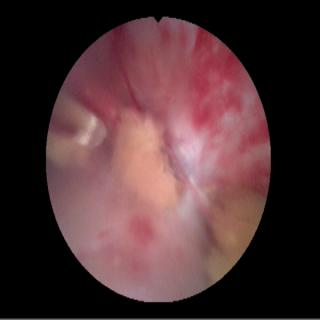stone: (112, 110, 184, 210), (205, 191, 262, 280)
tissue: (54, 22, 266, 295)
